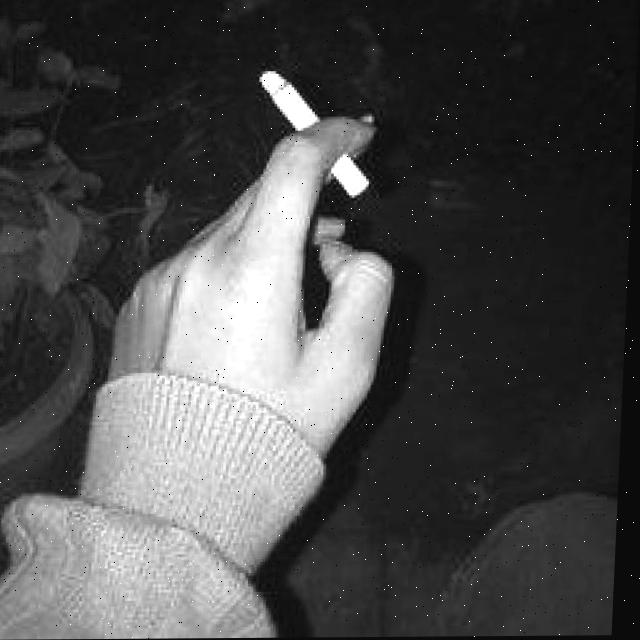cigarette: (254, 70, 375, 196)
